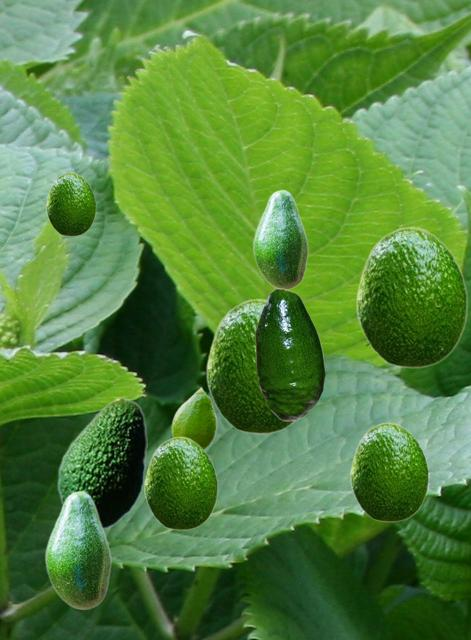avocado: (356, 226, 467, 367), (206, 298, 295, 433), (57, 397, 146, 529), (255, 288, 324, 420), (44, 490, 110, 609), (350, 422, 428, 521), (144, 436, 217, 529), (252, 189, 307, 289), (46, 172, 95, 235), (171, 386, 216, 449)
